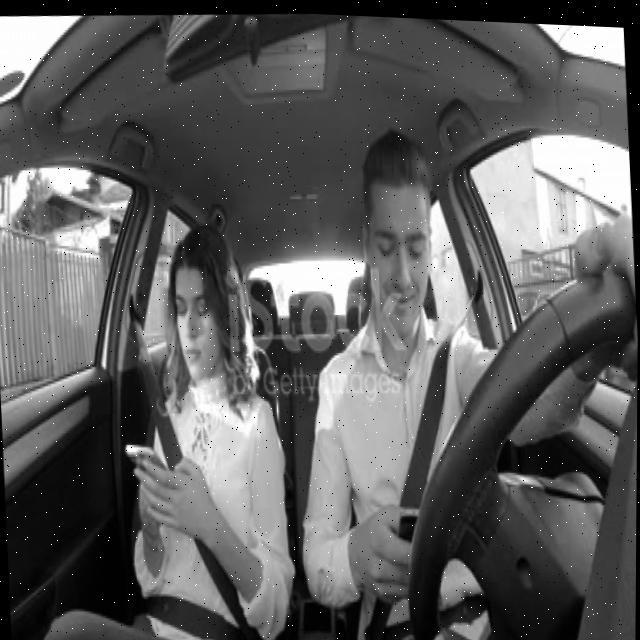PhoneCall: (122, 436, 172, 504)
